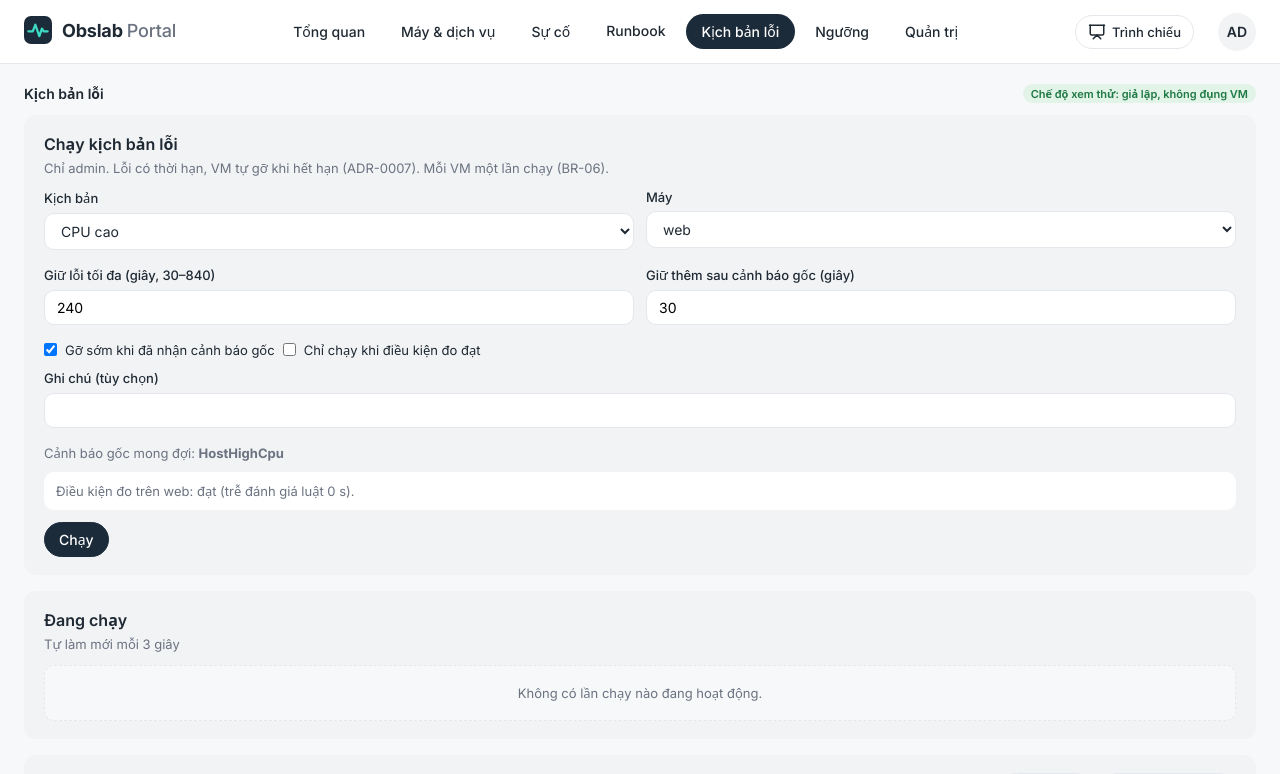
it: kịch bản lỗi › dừng dịch vụ: chọn postgresql thì chỉ còn máy db
Select "Dừng dịch vụ" in the dropdown labelled "Kịch bản". click: (339, 232)
box: [44, 213, 634, 250]
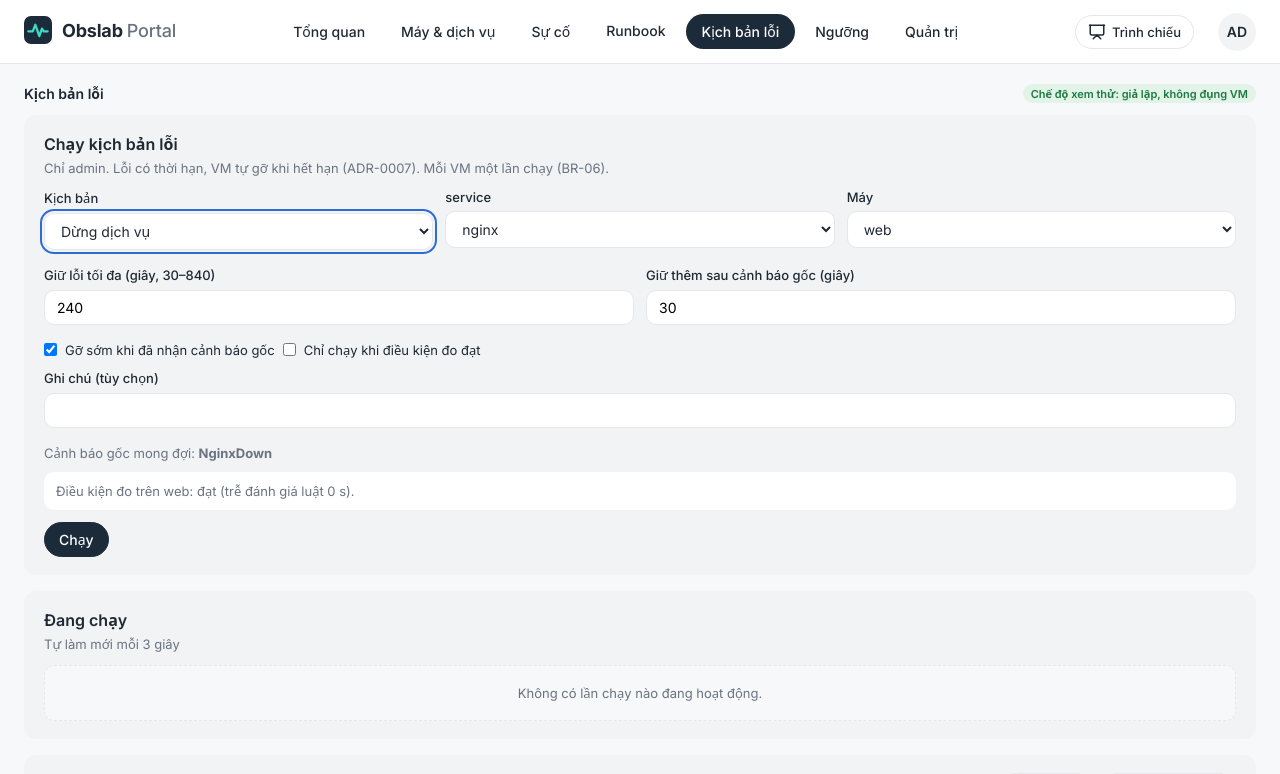
Select "postgresql" in the dropdown labelled "service". click: (640, 230)
box: [445, 211, 835, 248]
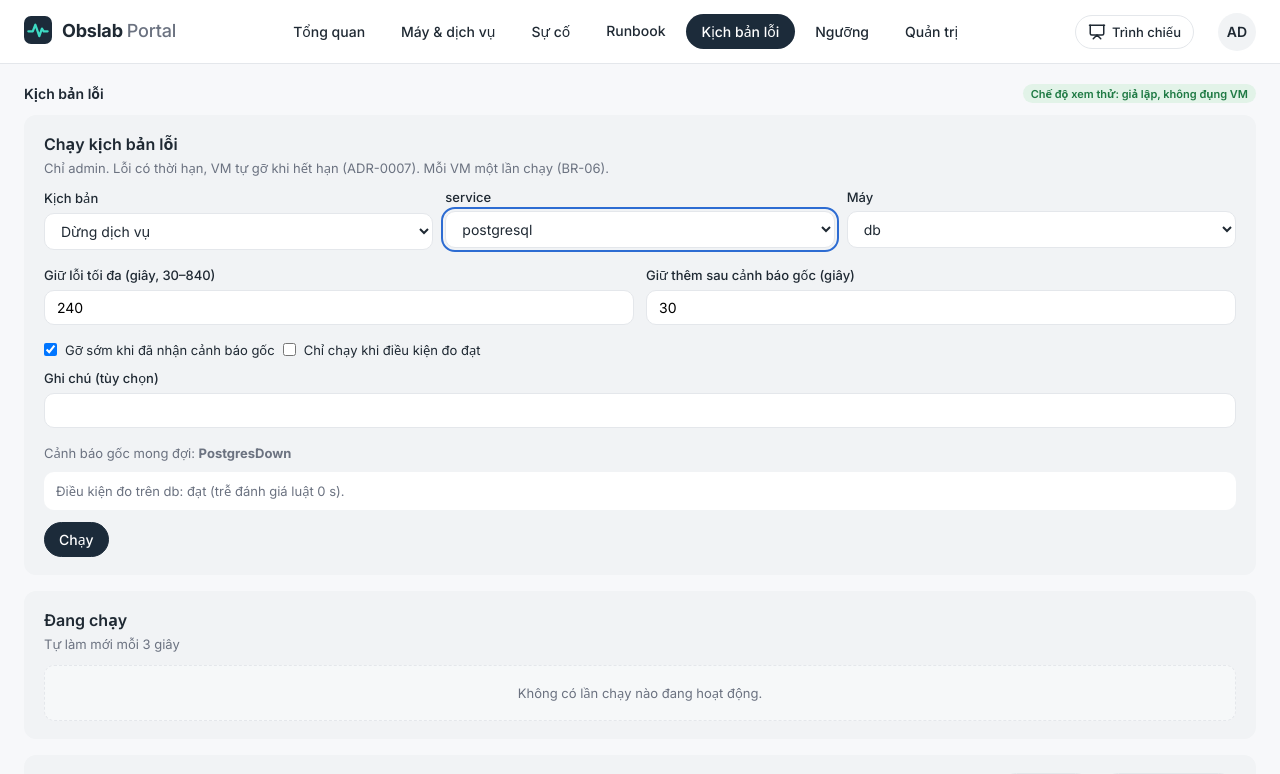
Expected: the text "PostgresDown" is shown, [199, 445, 291, 461]
